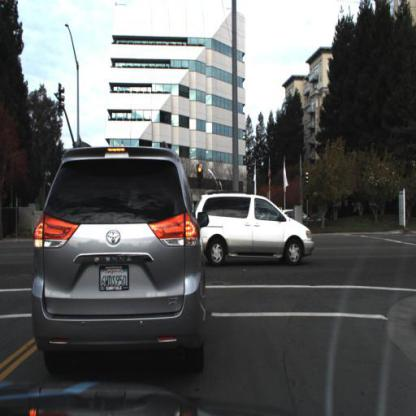car: (30, 140, 211, 375), (195, 192, 316, 265)
trafficLight-Red: (196, 161, 205, 190)
